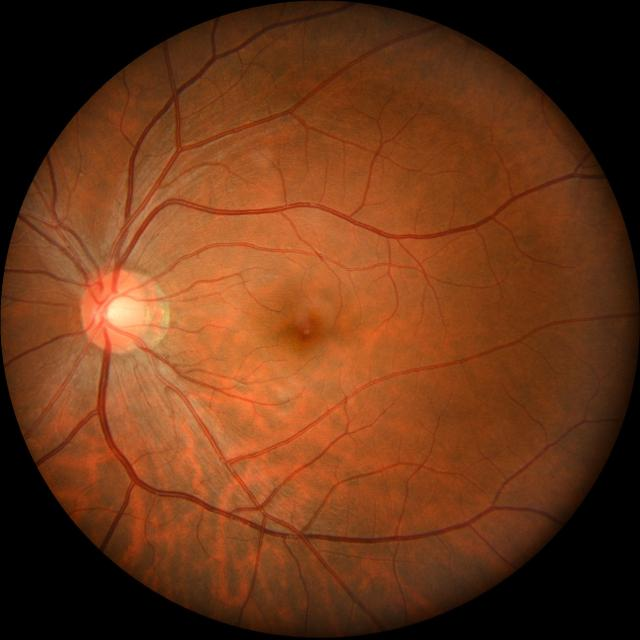OC: (101, 292, 136, 334)
OD: (83, 270, 148, 348)
